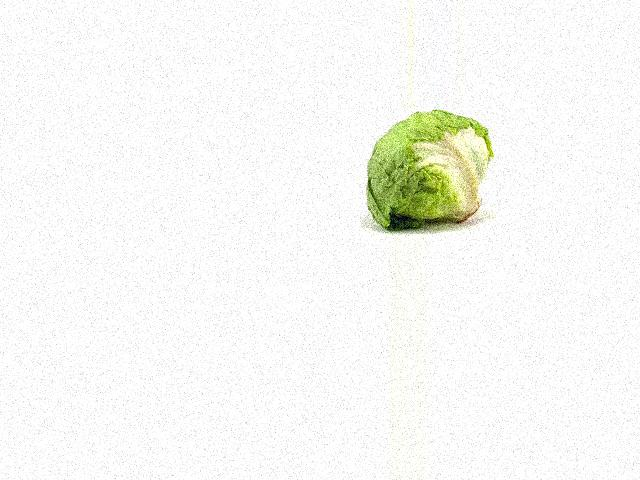lettuce: (340, 116, 490, 256)
